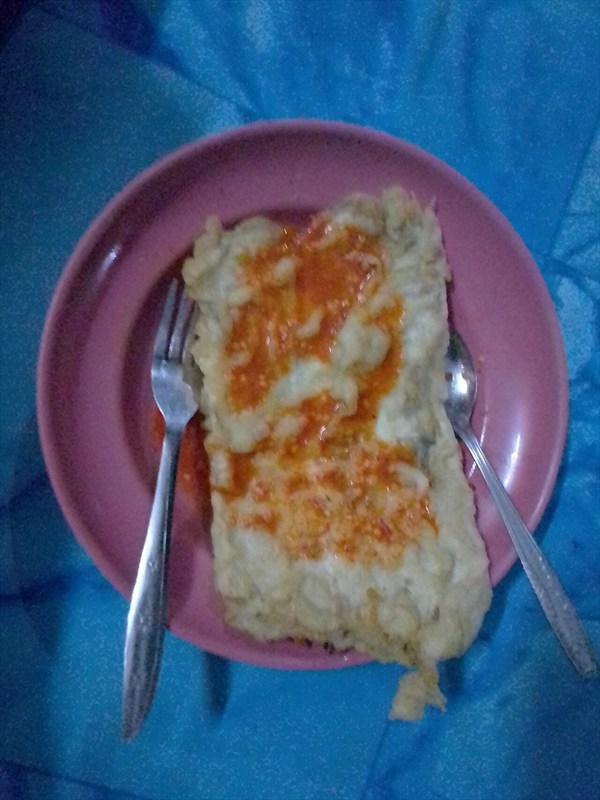Tempe Goreng: (114, 212, 524, 595)
